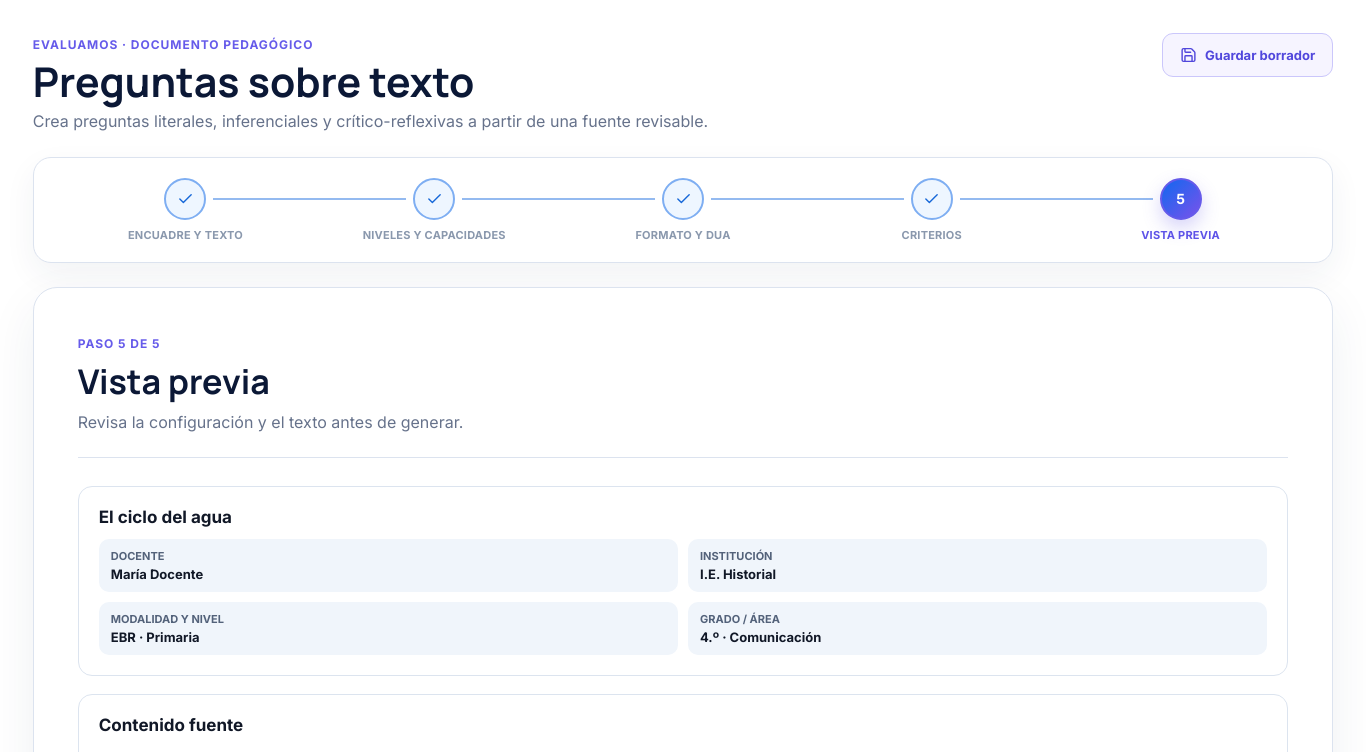
SourceDocumentTool › reabre desde Historial la fuente, su edición y el resultado persistido
Click the button "Encuadre y texto".
click(186, 210)  # box [61,178,310,242]
(page scrolled)
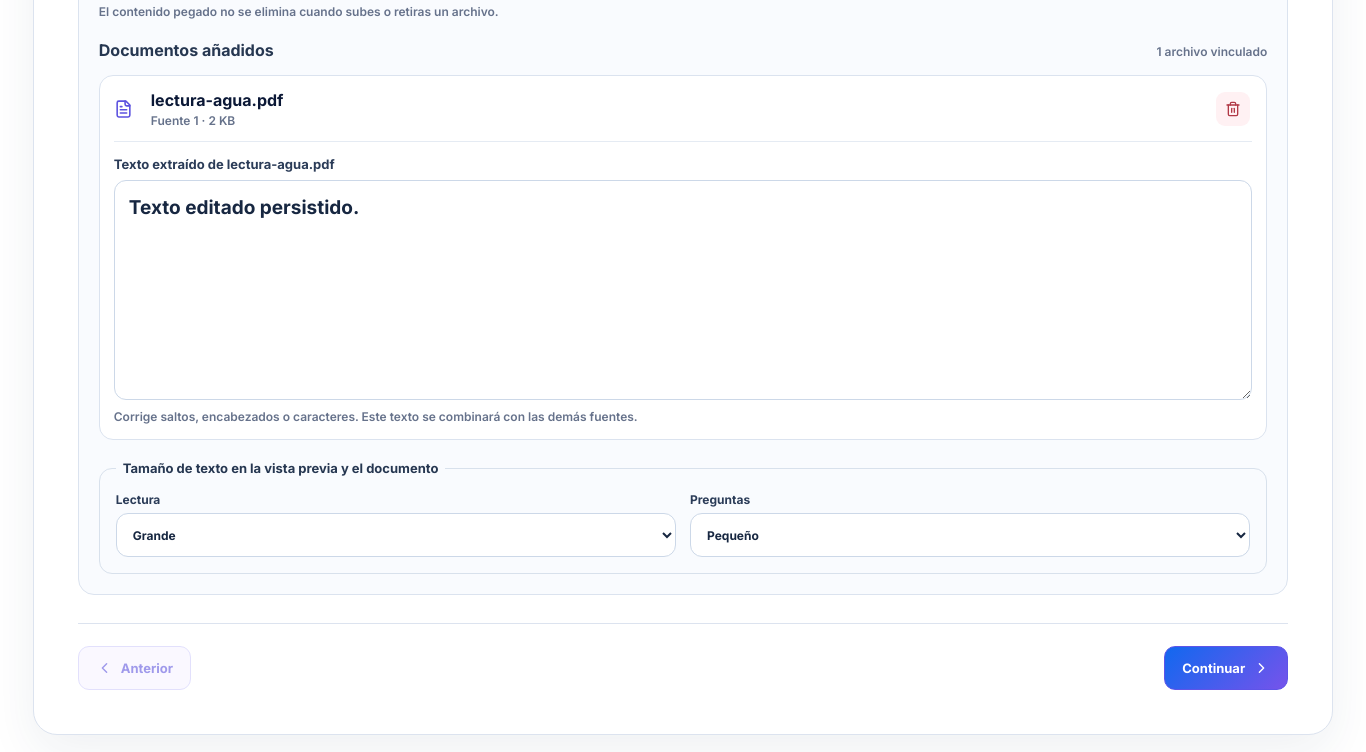
Result: the text "lectura-agua.pdf" is shown at [151,90,284,110]
Result: the text box named "Vista previa editable de lectura-agua.pdf" holds "Texto editado persistido." at [114,180,1252,400]
Result: the dropdown labelled "Lectura" shows "Grande" at [116,513,676,557]
